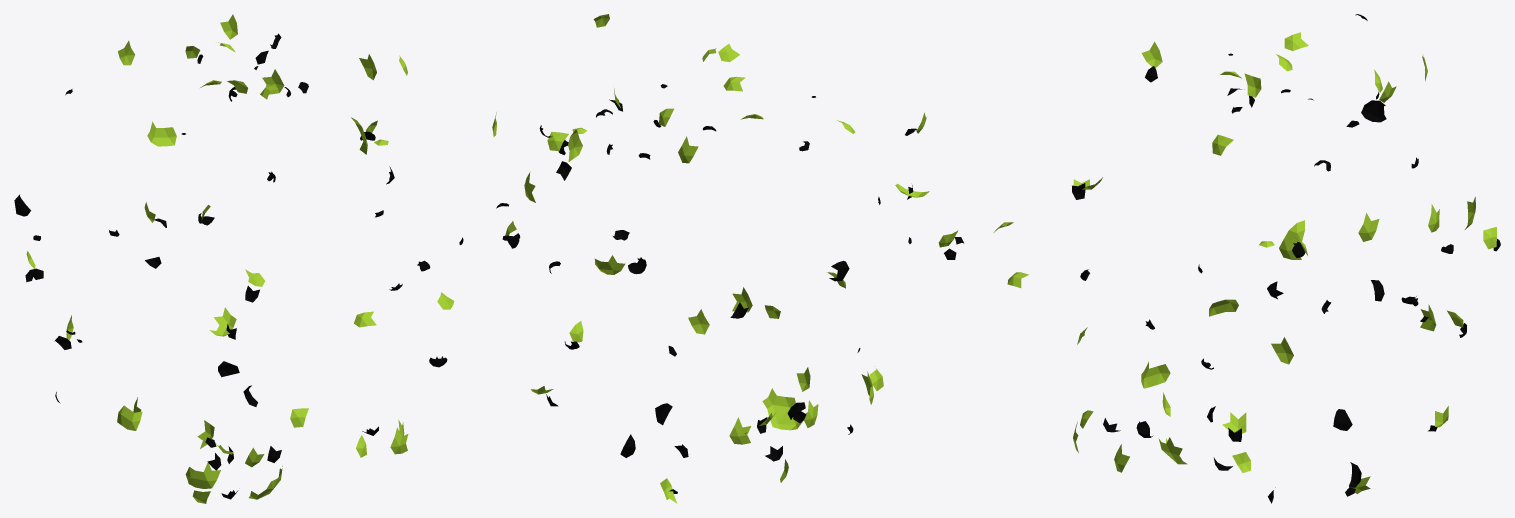
File: explode.f0020.glb
3 views of the same model, side by side, from view 1: azimuth 30°, elevation 25°; view 2: azimuth 150°, elevation 25°; view 3: azimuth 270°, elevation 25° (orthographic). The views are drawn at different scales.
Parts seen in each view (by area): view 1: Body.001; view 2: Body.001; view 3: Body.001.
Boxes of the visible parts, x1,y1,x2,y2 form: Body.001: (14, 14, 463, 503); Body.001: (492, 14, 964, 503); Body.001: (994, 14, 1500, 503).
Size of the model in its own units: 15.23 by 15.63 by 15.66.
Materials: 1 (1 with a texture image).
